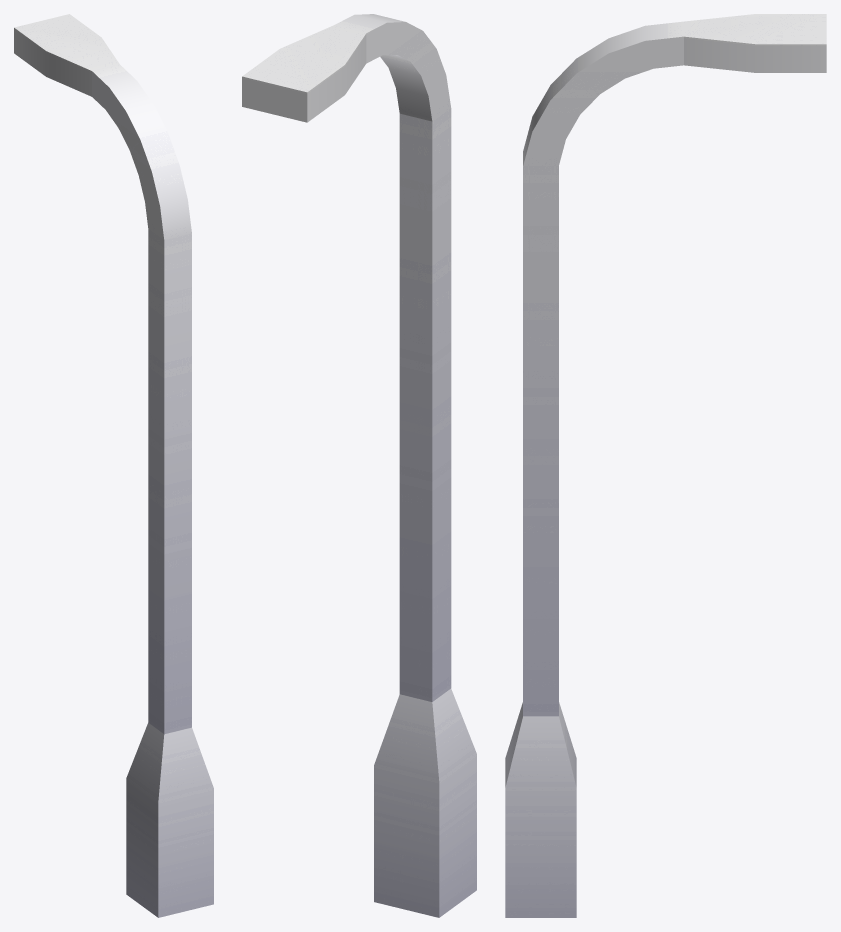
Rendered from light-curved.glb.
The picture shows the model from 3 angles, left to right: view 1: azimuth 30°, elevation 25°; view 2: azimuth 150°, elevation 25°; view 3: azimuth 270°, elevation 25°; orthographic projection. The views are drawn at different scales.
Parts seen in each view (by area): view 1: light-curved; view 2: light-curved; view 3: light-curved.
Boxes of the visible parts, x1,y1,x2,y2 form: light-curved: (14, 14, 213, 917); light-curved: (242, 14, 476, 917); light-curved: (505, 14, 826, 917).
Bounding box in the file's own units: 0.05 × 0.675 × 0.225.
1 material, 1 textured.
